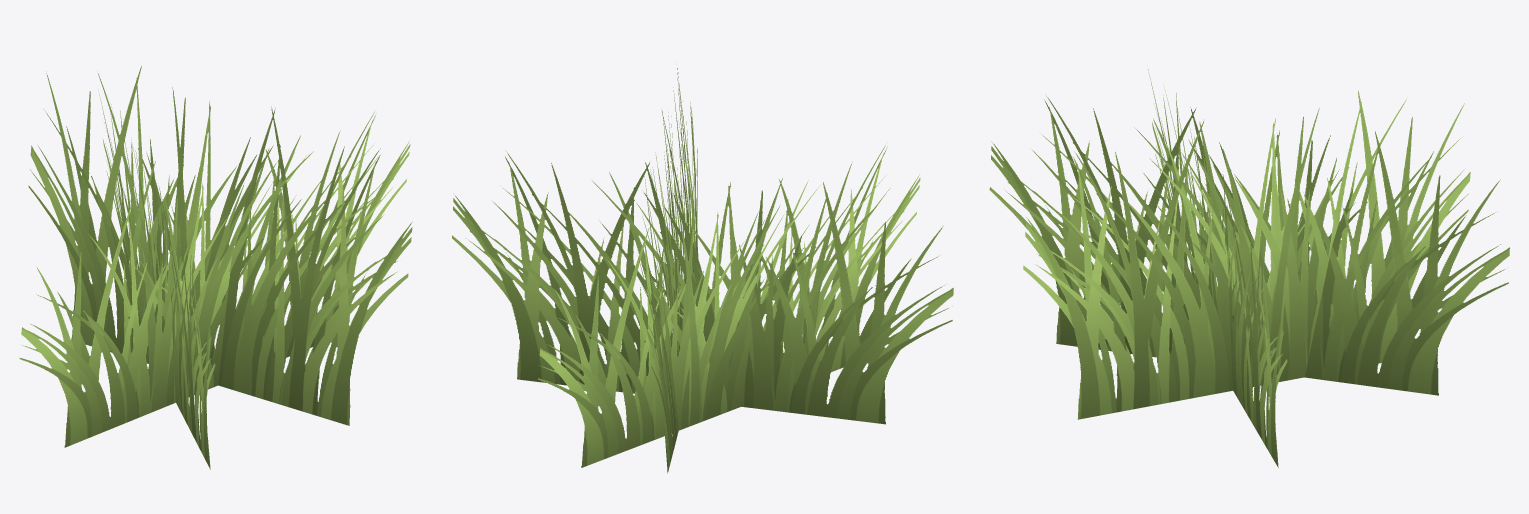
The model's file is alpine_grass_1.glb.
The picture shows the model from 3 angles, left to right: view 1: azimuth 30°, elevation 25°; view 2: azimuth 150°, elevation 25°; view 3: azimuth 270°, elevation 25°; orthographic projection. The views are drawn at different scales.
Visible parts, largest first — view 1: alpine_grass_1; view 2: alpine_grass_1; view 3: alpine_grass_1.
Part boxes in pixels (box(x1,y1,x2,y2)): alpine_grass_1: box(19, 66, 412, 469); alpine_grass_1: box(452, 68, 953, 473); alpine_grass_1: box(989, 69, 1509, 467).
Bounding box in the file's own units: 0.5373 × 0.3383 × 0.5177.
Materials: 1 (1 with a texture image).
